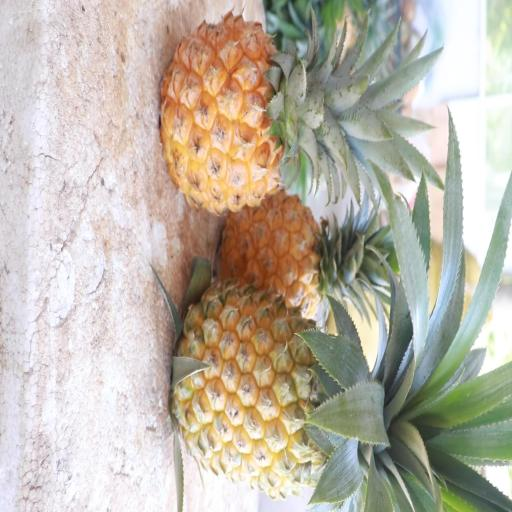Pineapple - v8 v1: (167, 280, 387, 504), (157, 10, 356, 221), (217, 186, 380, 326)
